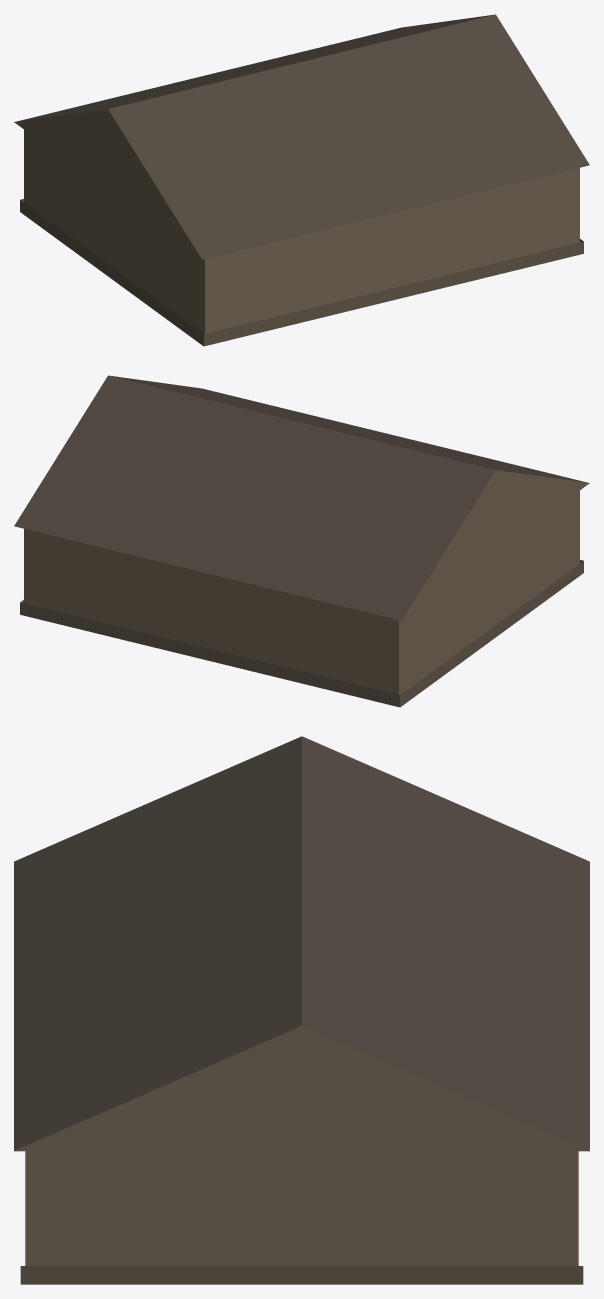
Rendered from zoo-a03651.glb.
3 views of the same model, one above another, from view 1: azimuth 30°, elevation 25°; view 2: azimuth 150°, elevation 25°; view 3: azimuth 270°, elevation 25° (orthographic). The views are drawn at different scales.
Parts seen in each view (by area): view 1: zoo_a03651; view 2: zoo_a03651; view 3: zoo_a03651.
Part boxes in pixels (x1,y1,x2,y2): zoo_a03651: [14, 14, 589, 346]; zoo_a03651: [14, 375, 589, 707]; zoo_a03651: [14, 736, 589, 1284].
Bounding box in the file's own units: 18.2 × 7.67 × 15.3.
